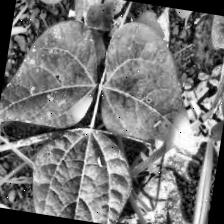ALS: (96, 18, 208, 150), (0, 11, 107, 145), (27, 128, 136, 224)
